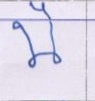ai_matra: (30, 0, 55, 19)
